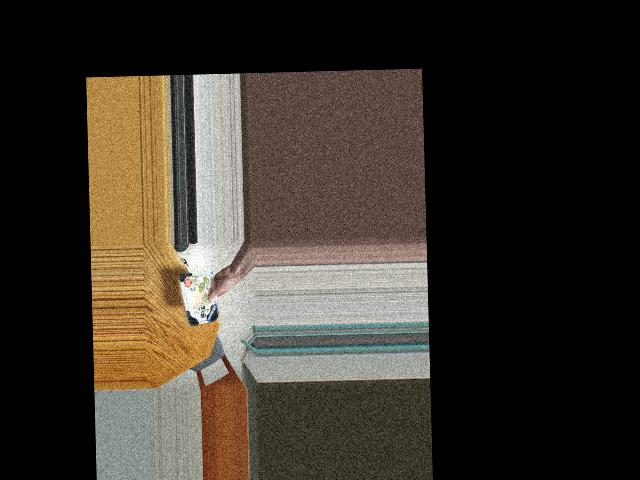cheese: (181, 278, 219, 327)
